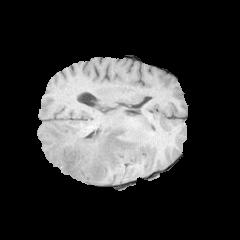glioma: (45, 125, 141, 182)
